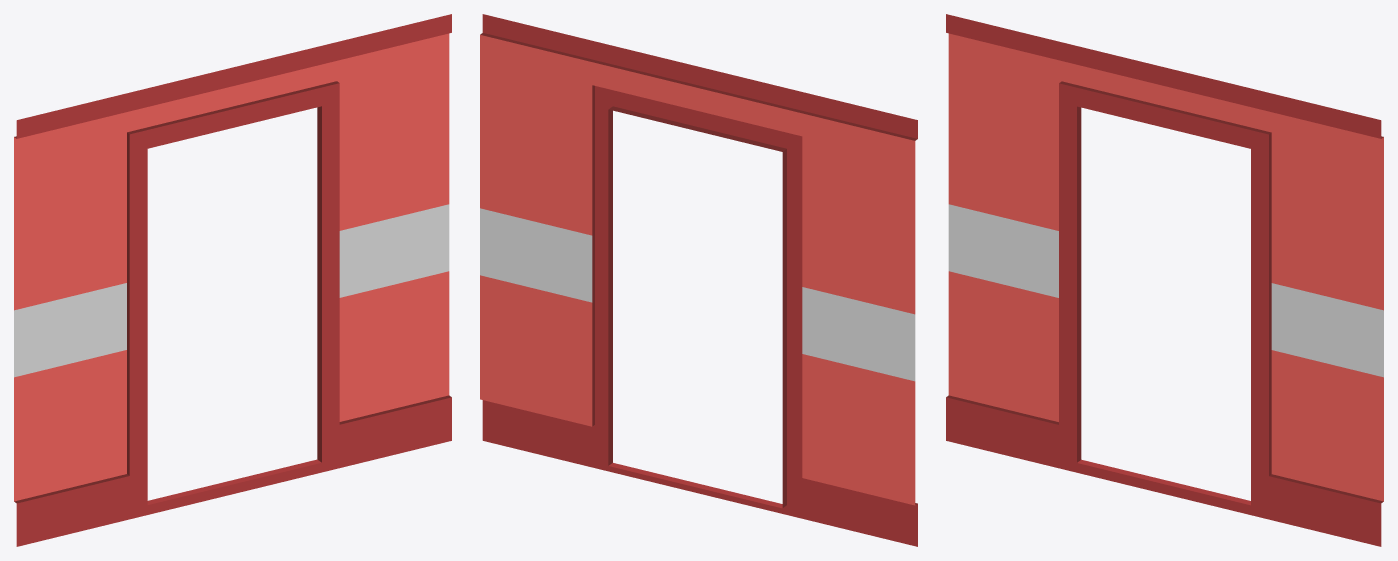
Rendered from WallDoorSmall2.glb.
3 renders of one model, left to right at view 1: azimuth 30°, elevation 25°; view 2: azimuth 150°, elevation 25°; view 3: azimuth 330°, elevation 25°, orthographic.
Visible parts, largest first — view 1: SI_Env_Wall_Door_Small_02; view 2: SI_Env_Wall_Door_Small_02; view 3: SI_Env_Wall_Door_Small_02.
Boxes of the visible parts, x1,y1,x2,y2 form: SI_Env_Wall_Door_Small_02: (14, 14, 451, 546); SI_Env_Wall_Door_Small_02: (480, 14, 917, 546); SI_Env_Wall_Door_Small_02: (946, 14, 1383, 546).
Bounding box in the file's own units: 0.05 × 0.0469 × 0.000885.
Materials: 1 (1 with a texture image).
